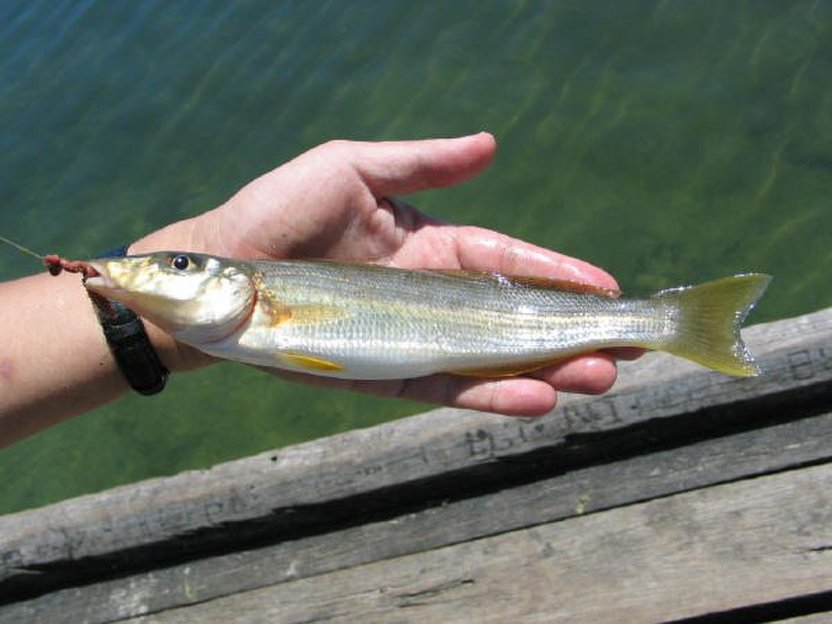kiss: (79, 238, 772, 396)
